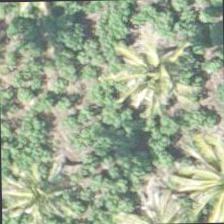Kelapa_Sawit: (107, 30, 200, 122), (0, 143, 86, 223)
